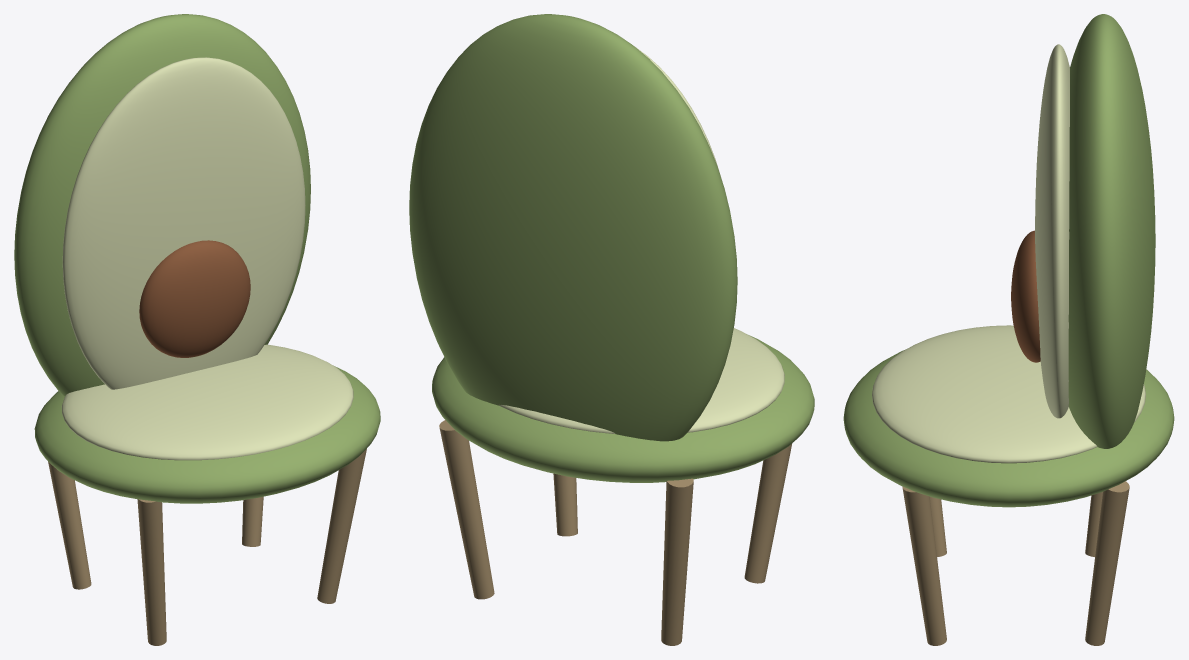
File: sample.glb
3 views of the same model, side by side, from view 1: azimuth 30°, elevation 25°; view 2: azimuth 150°, elevation 25°; view 3: azimuth 270°, elevation 25° (orthographic). The views are drawn at different scales.
Bounding box in the file's own units: 1.58 × 2.67 × 1.4.
